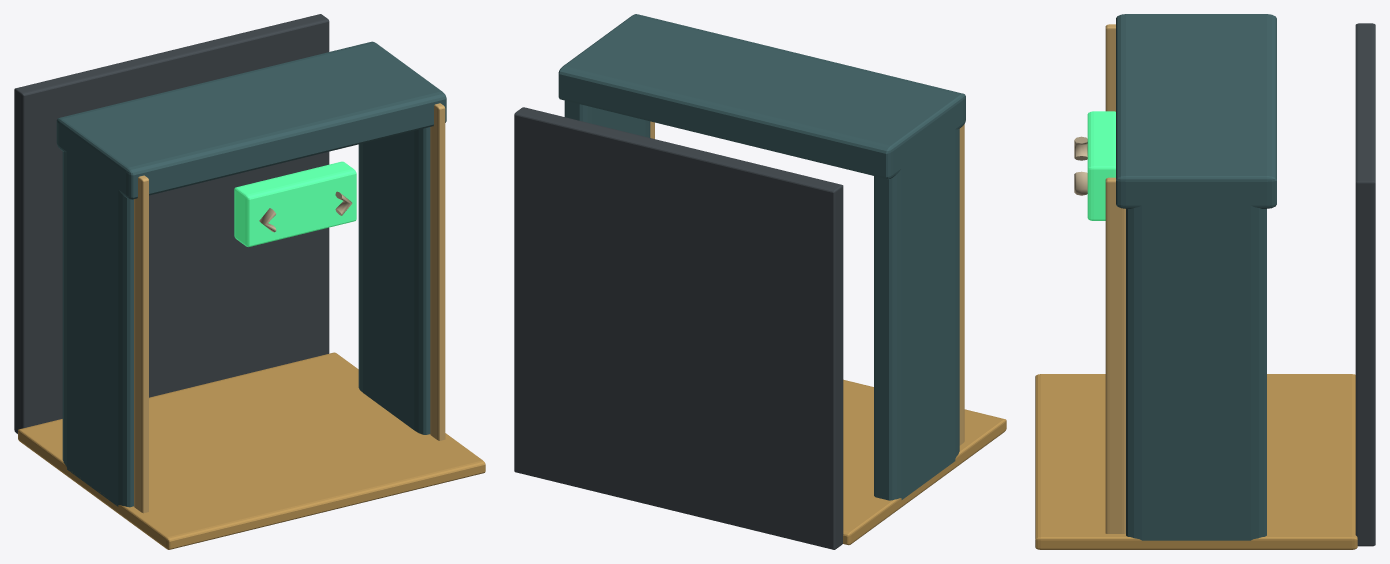
File: exit.gltf
3 views of the same model, side by side, from view 1: azimuth 30°, elevation 25°; view 2: azimuth 150°, elevation 25°; view 3: azimuth 270°, elevation 25° (orthographic). The views are drawn at different scales.
Visible parts, largest first — view 1: exit; view 2: exit; view 3: exit.
Part boxes in pixels (bbox=[...]): exit: bbox=[14, 14, 485, 549]; exit: bbox=[514, 14, 1006, 549]; exit: bbox=[1035, 14, 1375, 549].
Bounding box in the file's own units: 0.9667 × 1.02 × 0.845.
